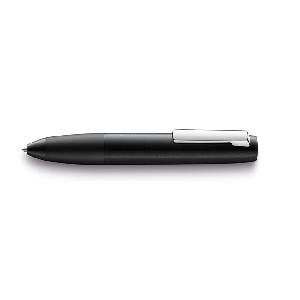pen: (16, 126, 264, 169)
